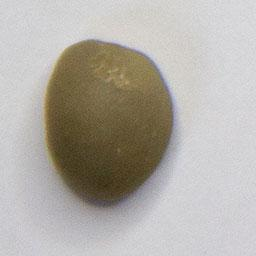premium: (41, 35, 178, 207)
